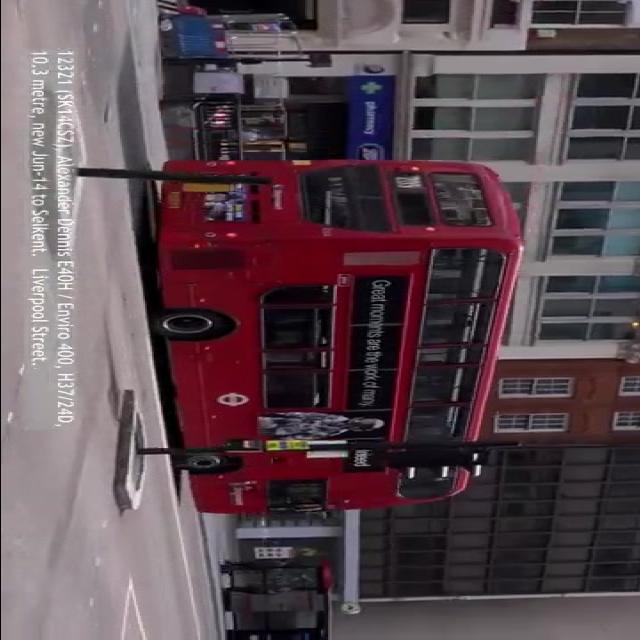bus: (156, 156, 524, 517), (106, 1, 612, 60)
